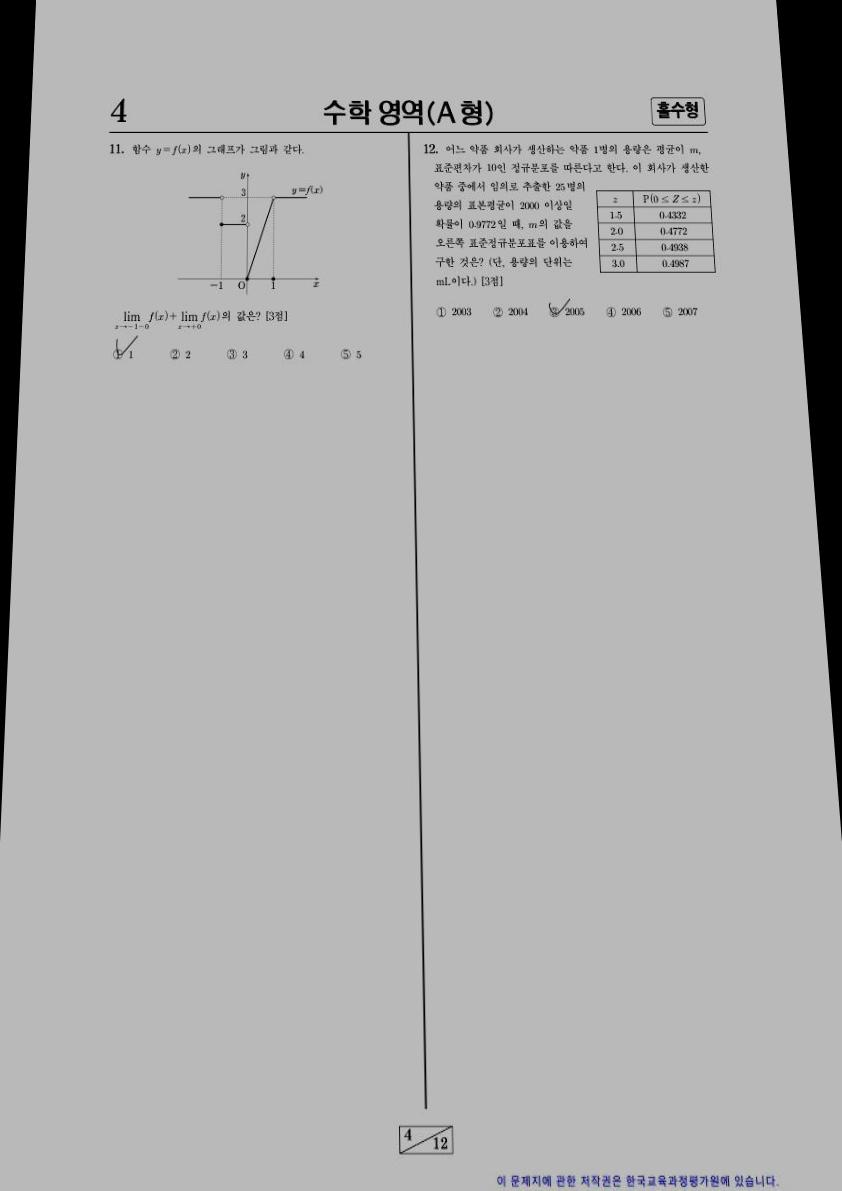question: (97, 137, 376, 381), (409, 137, 726, 336)
